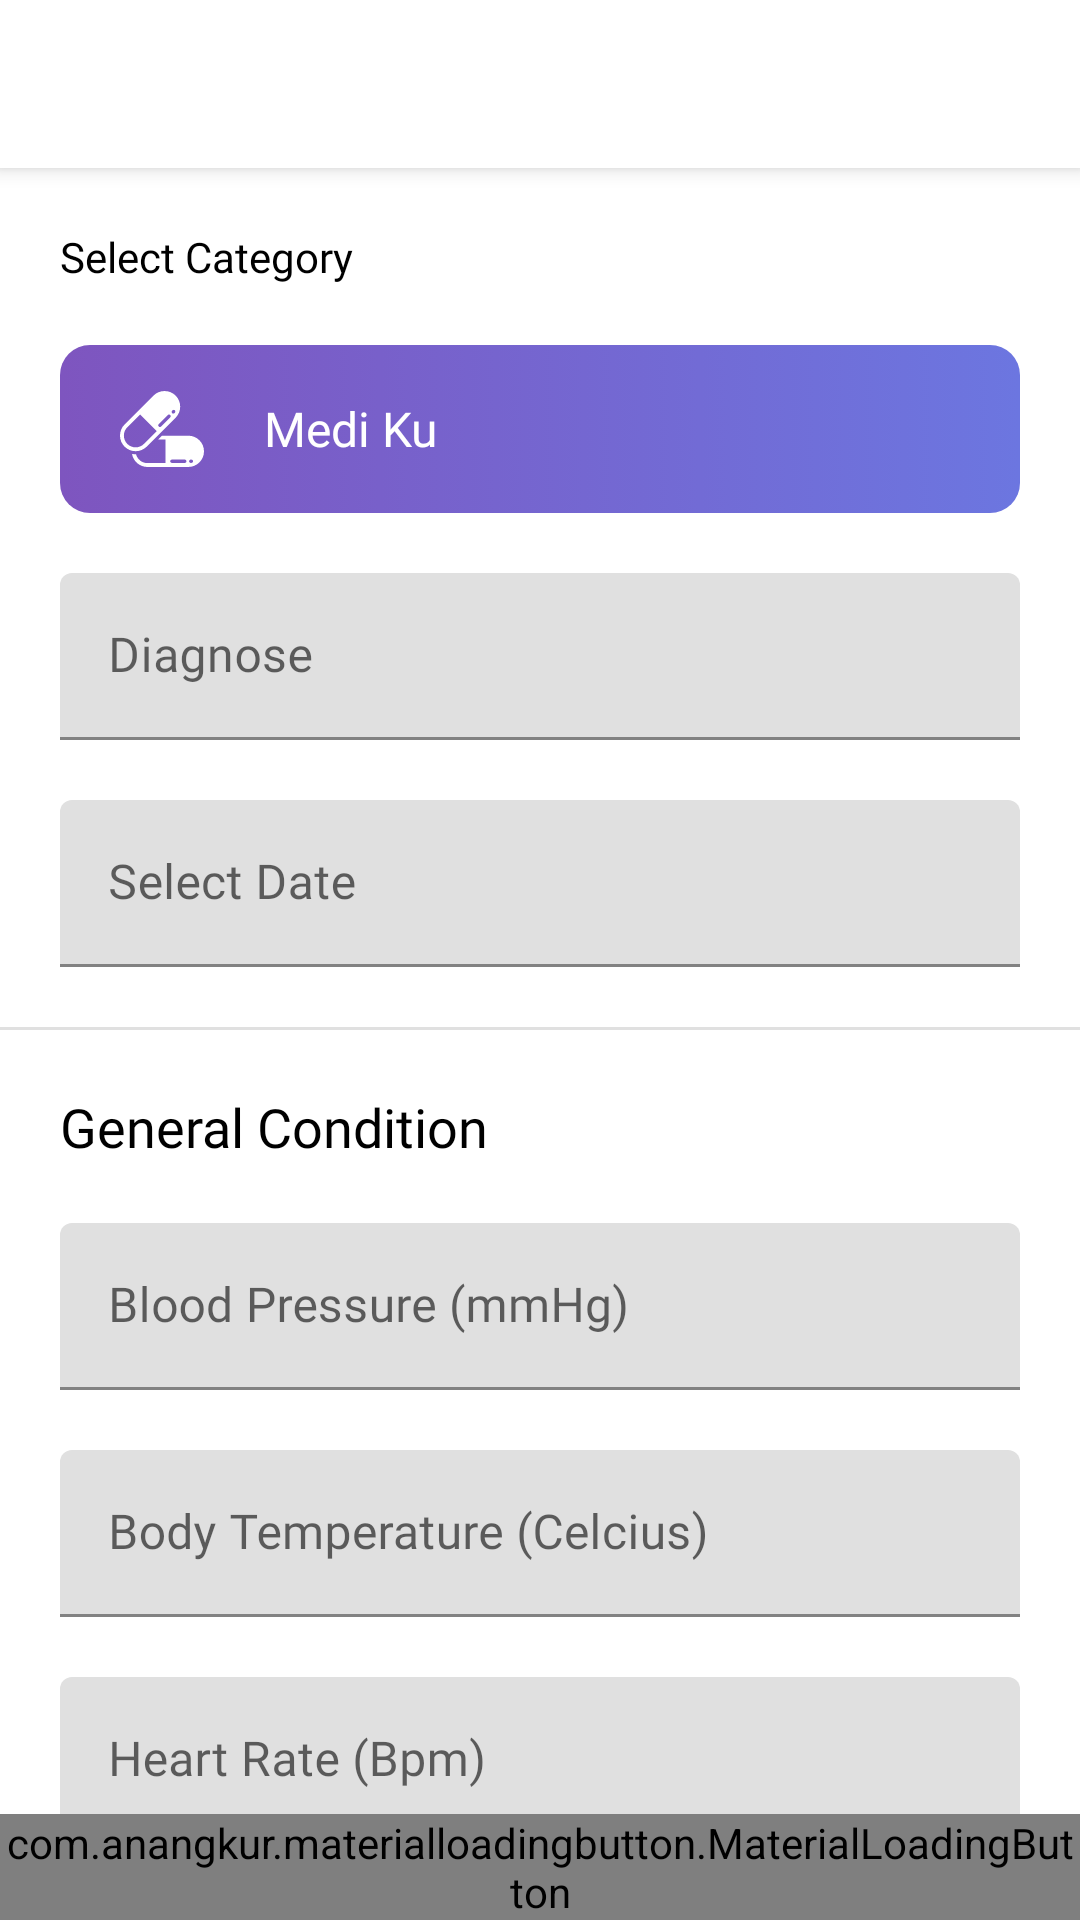

Screen size 1080 x 1920. Icon name, then its center in pixels as [x,y]:
pills: [162,429]
